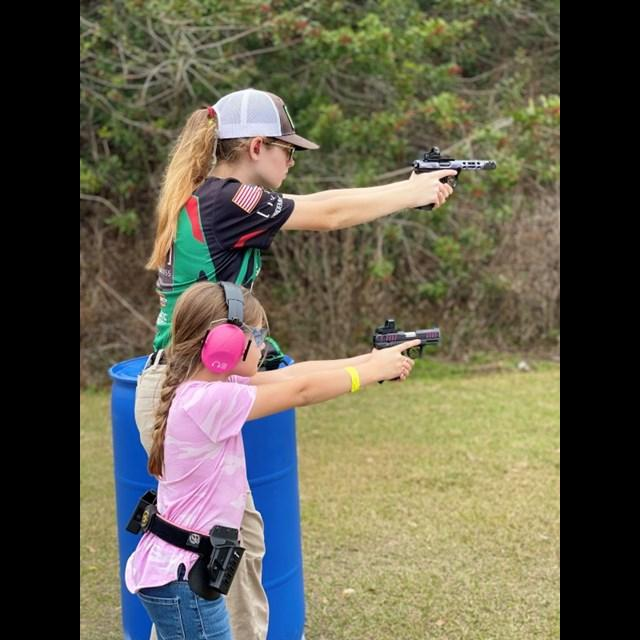handgun: (409, 146, 499, 187), (370, 316, 442, 359)
